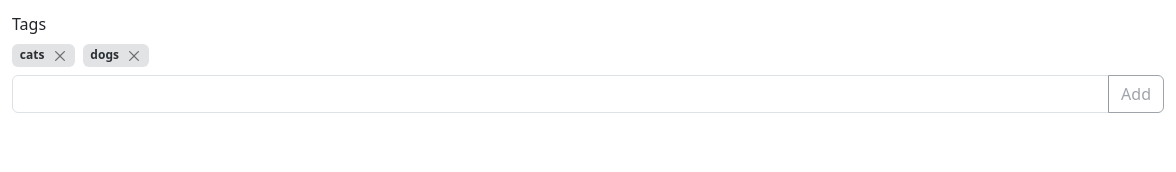
Scenario: TagListEditor › removes a value
Click the button named "Remove cats".
click(60, 55)  # box [52,48,67,63]
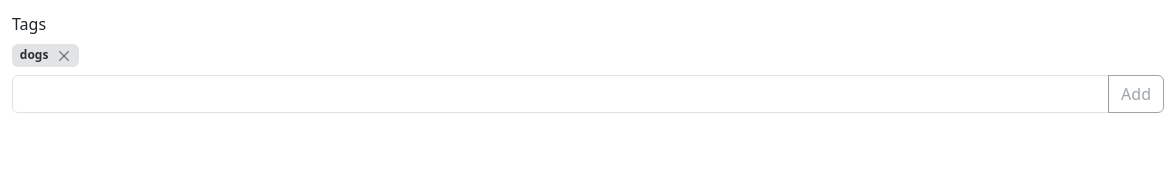
Expected: the text "cats" is gone
